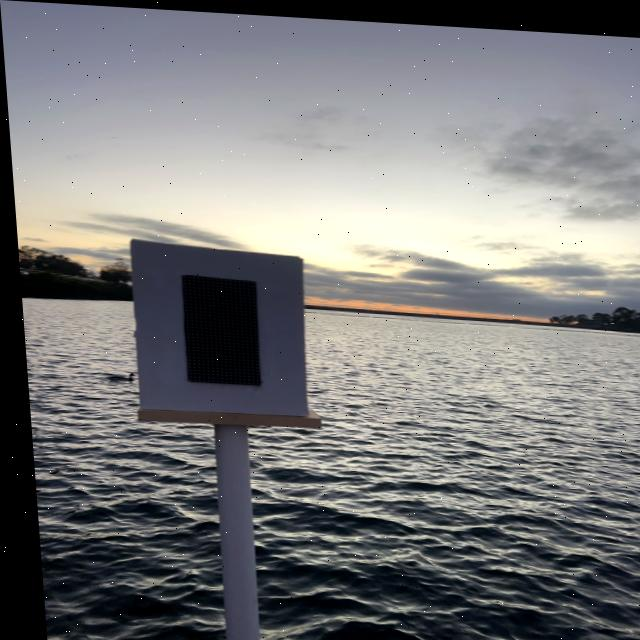led: (139, 239, 298, 407)
